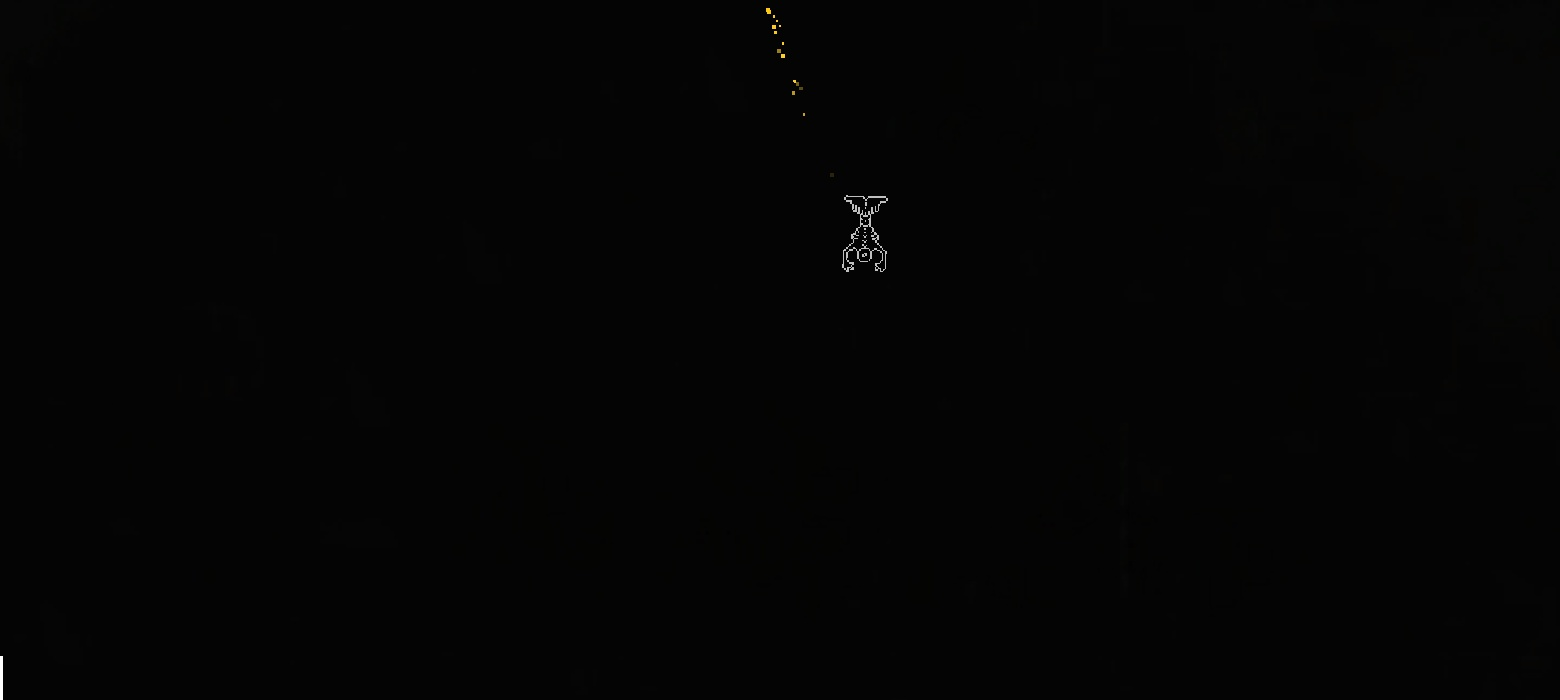enemy: (841, 195, 888, 272)
